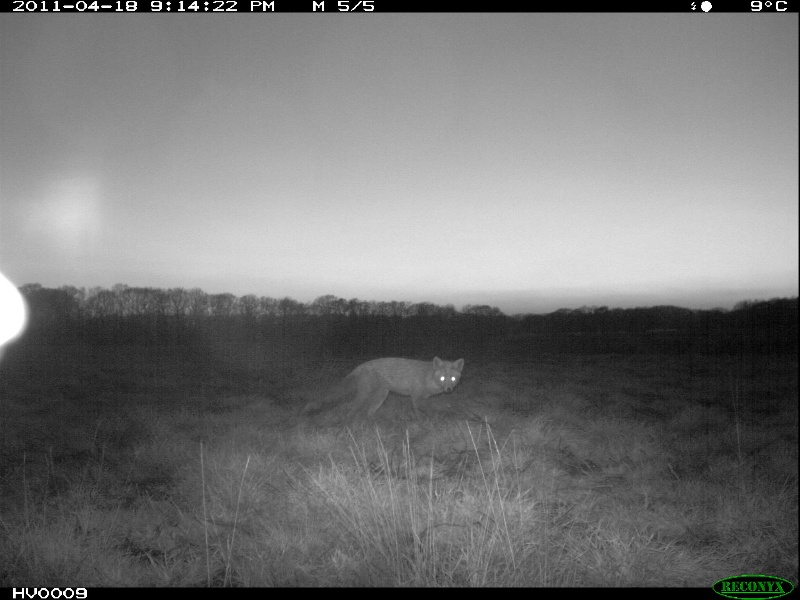fox: (295, 354, 467, 435)
